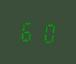six: (19, 18, 36, 43)
zero: (37, 19, 54, 45)
